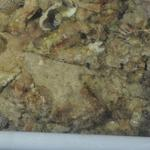dead: (3, 1, 146, 133)
